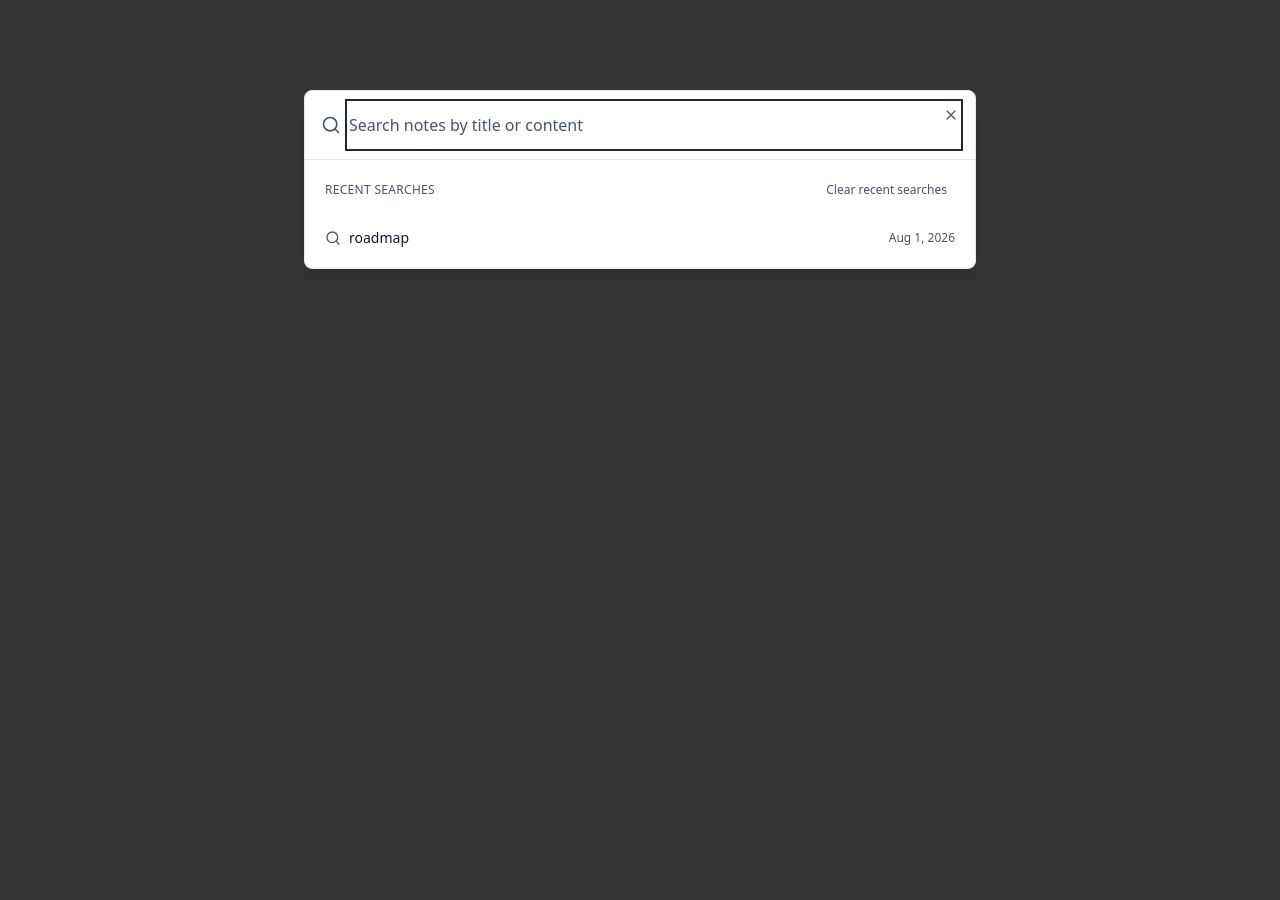
Test: GlobalSearchDialog › fills the query when a recent search is picked
Click the button "roadmap Aug 1, 2026" at (379, 238), box [313,216,967,260]
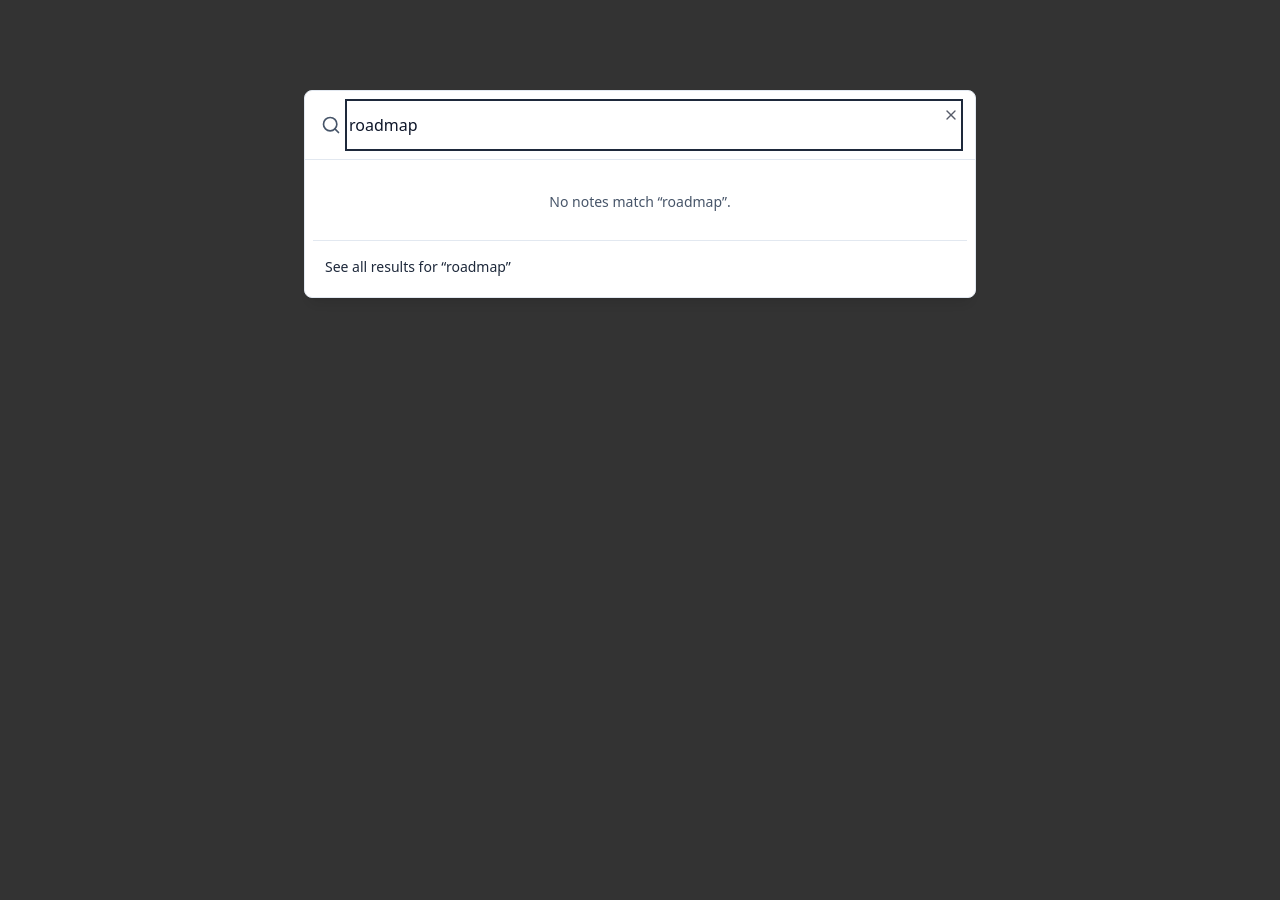
Expected: the dropdown named "Search notes" holds "roadmap", [349,103,959,147]
